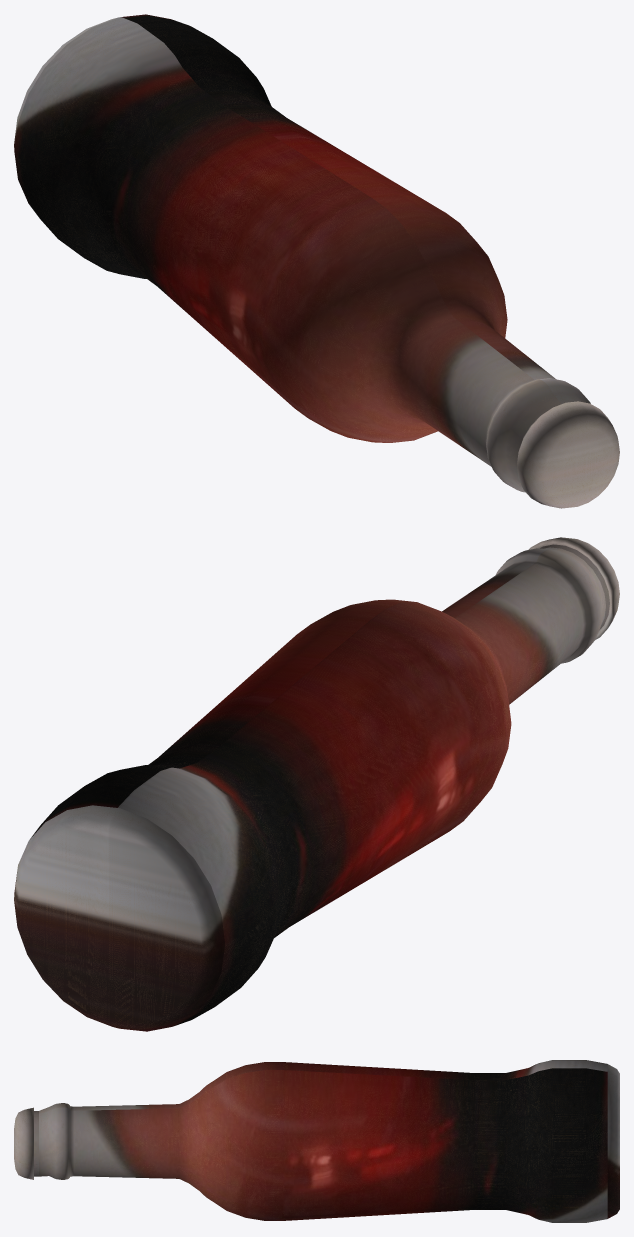
File: model_align.obj
3 views of the same model, one above another, from view 1: azimuth 30°, elevation 25°; view 2: azimuth 150°, elevation 25°; view 3: azimuth 270°, elevation 25° (orthographic). The views are drawn at different scales.
Visible parts, largest first — view 1: mesh4_mesh4-geometry, mesh1_mesh1-geometry; view 2: mesh4_mesh4-geometry, mesh3_mesh3-geometry, mesh1_mesh1-geometry; view 3: mesh4_mesh4-geometry, mesh3_mesh3-geometry, mesh1_mesh1-geometry, mesh2_mesh2-geometry.
Boxes of the visible parts, x1,y1,x2,y2 form: mesh4_mesh4-geometry: (14, 14, 590, 492); mesh1_mesh1-geometry: (517, 401, 619, 508); mesh4_mesh4-geometry: (30, 547, 605, 1026); mesh3_mesh3-geometry: (14, 805, 224, 1031); mesh1_mesh1-geometry: (528, 537, 619, 639); mesh4_mesh4-geometry: (39, 1060, 607, 1222); mesh3_mesh3-geometry: (607, 1064, 619, 1218); mesh1_mesh1-geometry: (14, 1107, 33, 1179); mesh2_mesh2-geometry: (34, 1111, 38, 1176).
Size of the model in its own units: 0.058 by 0.058 by 0.215.
